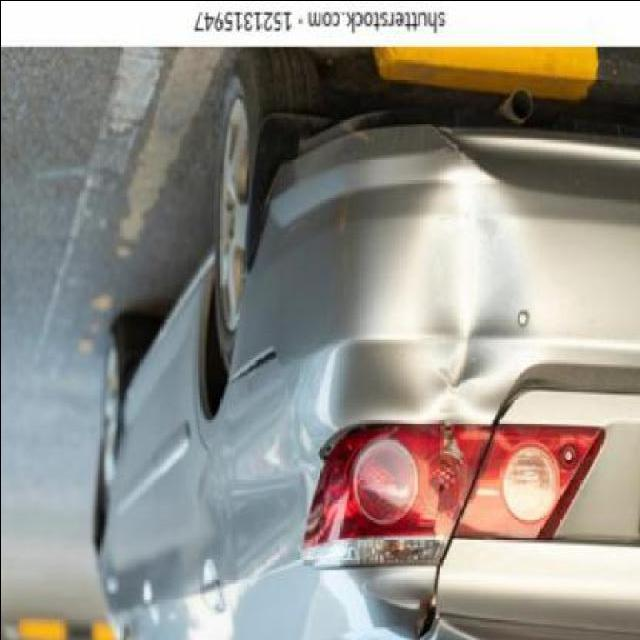rear-bumper-dent: (393, 158, 533, 409)
